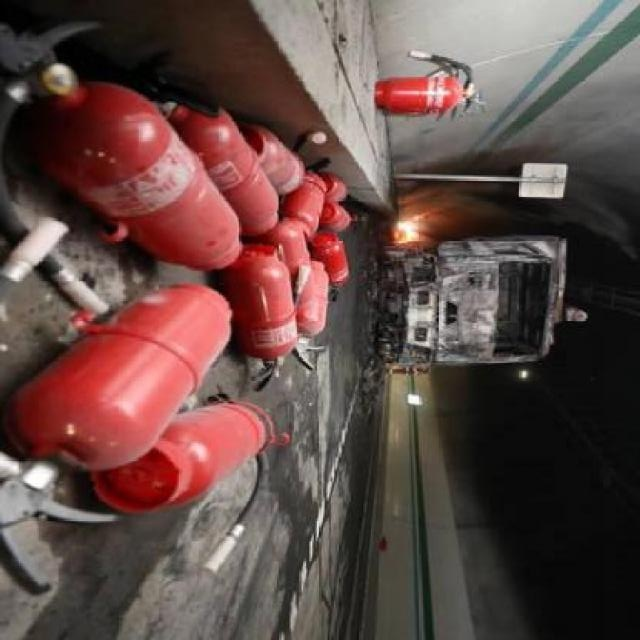fire extinguisher: (0, 283, 234, 595), (0, 19, 245, 315), (88, 393, 292, 576), (121, 54, 279, 235), (225, 243, 309, 394), (374, 54, 483, 117), (238, 126, 327, 203), (260, 224, 317, 324), (280, 157, 332, 238), (294, 260, 329, 371), (308, 231, 349, 304), (320, 199, 352, 233), (316, 171, 347, 204)
